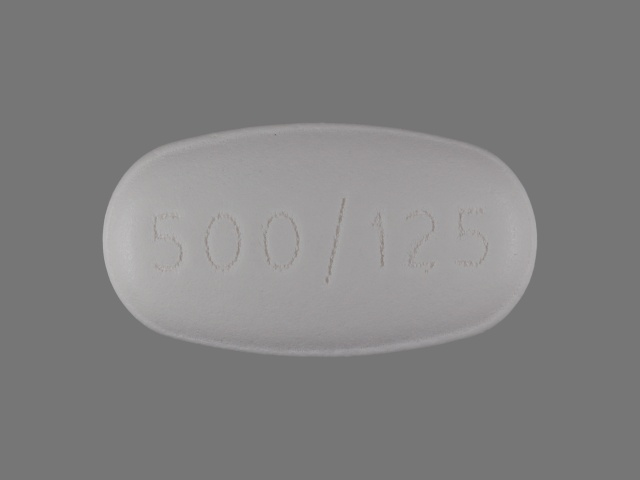/: (314, 192, 355, 287)
0: (196, 214, 246, 274), (260, 211, 304, 274)
1: (365, 210, 393, 268)
2: (401, 205, 441, 274)
5: (146, 210, 185, 281), (452, 203, 492, 270)
